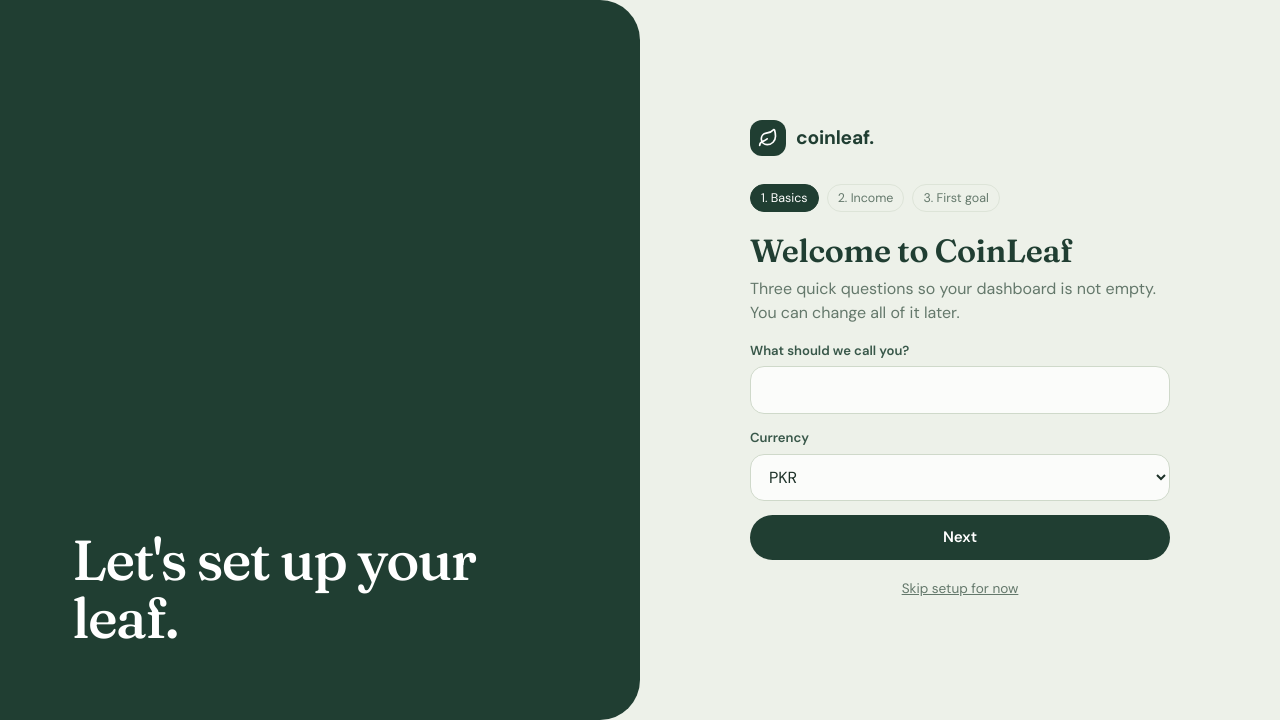
Welcome setup › shows server errors and stays put
Click the button "Next": {"x": 960, "y": 538} [750,515,1170,560]
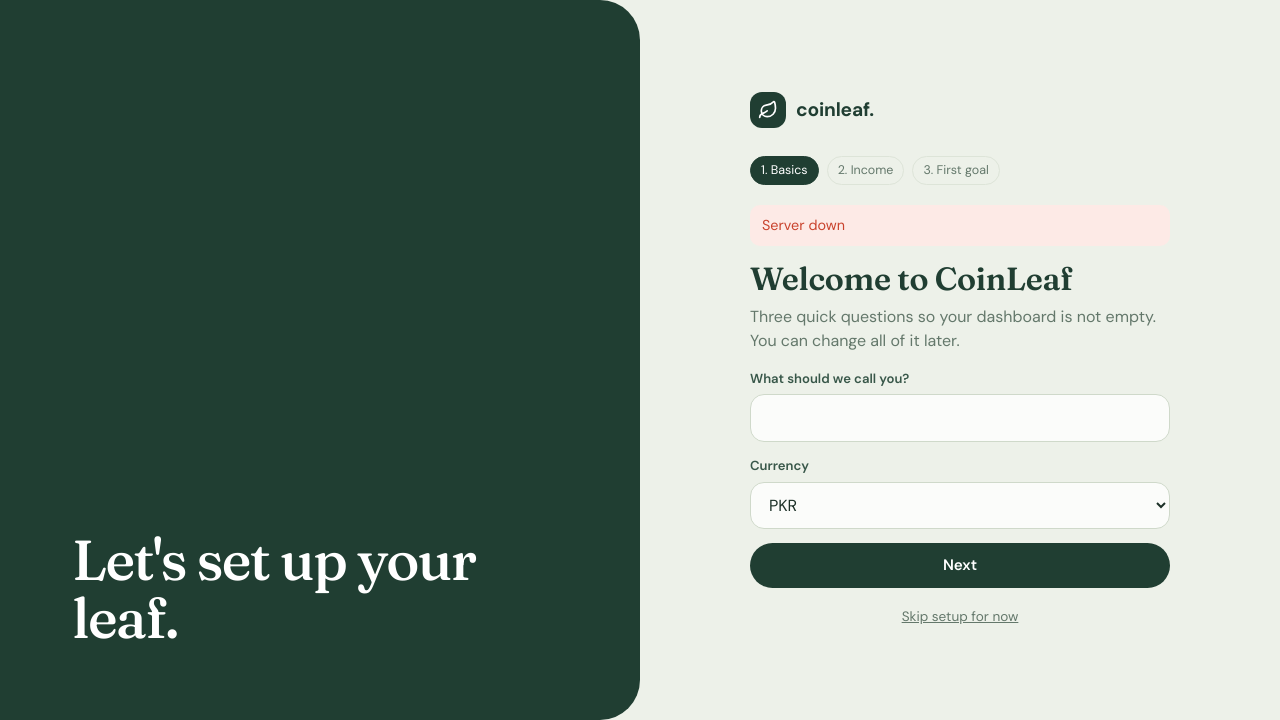
Expected: the heading "Welcome to CoinLeaf" is shown, [750,259,1072,298]
Now the message reads "Server down", box [762,216,845,234]
